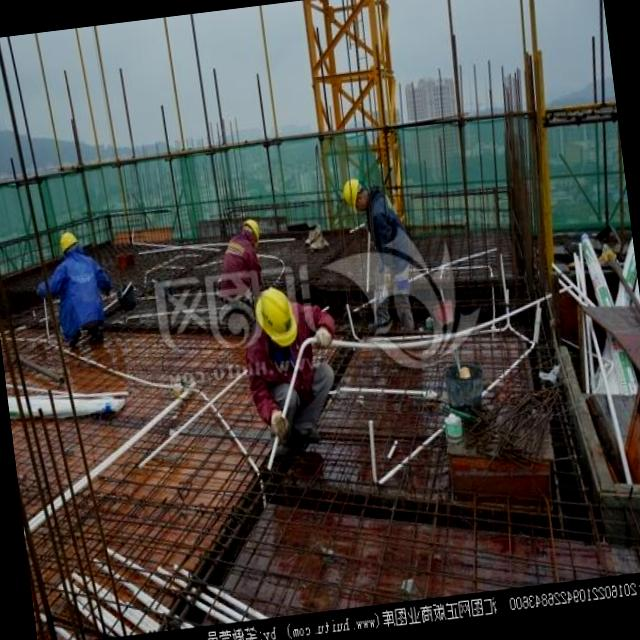helmet: (251, 279, 306, 353), (341, 170, 372, 214), (54, 225, 83, 258), (240, 218, 262, 243)
no-vest: (54, 260, 100, 325), (372, 196, 402, 258), (222, 236, 258, 282)
